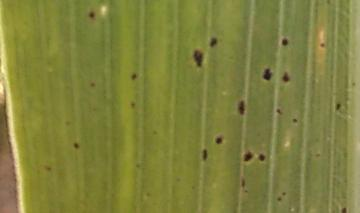tarspot: (192, 48, 204, 68), (262, 66, 273, 81), (237, 98, 246, 115), (243, 151, 254, 162), (200, 147, 208, 162), (209, 35, 218, 48), (281, 71, 290, 83), (239, 174, 247, 187), (257, 151, 266, 162), (334, 99, 342, 111), (42, 163, 52, 172), (280, 37, 289, 47), (128, 99, 137, 108), (71, 140, 80, 149), (214, 135, 223, 144), (274, 106, 283, 115), (88, 9, 96, 19), (130, 72, 138, 81), (63, 118, 72, 126), (88, 80, 96, 88), (143, 190, 151, 198), (151, 127, 159, 135), (318, 40, 326, 48), (279, 189, 288, 196), (314, 149, 321, 158), (291, 116, 299, 123), (350, 79, 357, 87), (133, 162, 141, 168), (276, 194, 282, 202), (340, 207, 347, 213)
